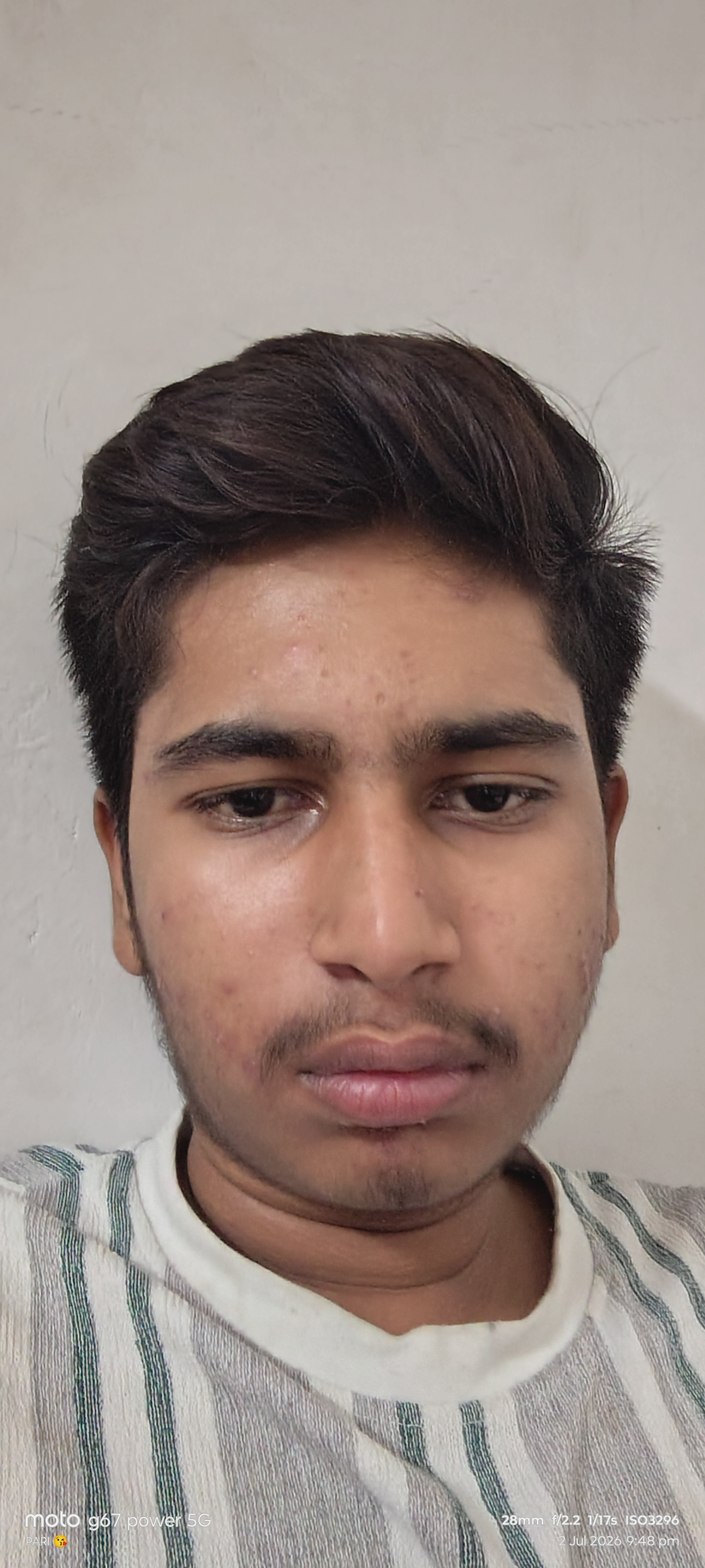macrocomedone: (249, 667, 265, 679), (289, 645, 302, 656)
